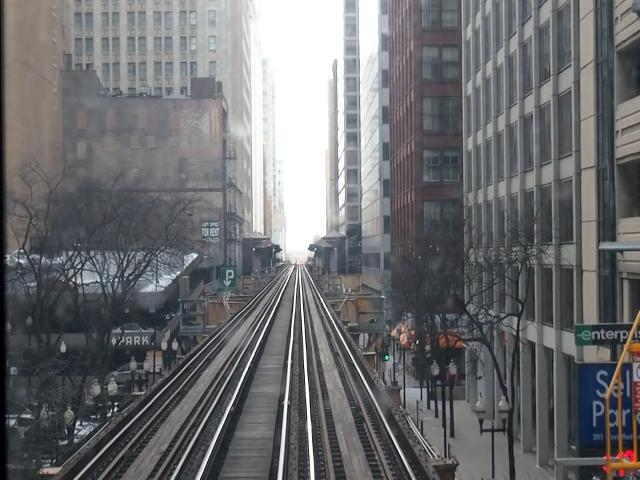signal light: (383, 344, 392, 364)
